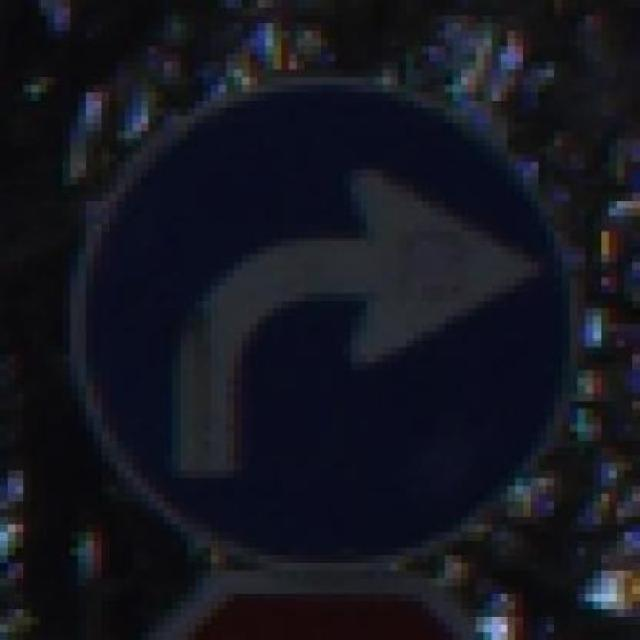Turn right ahead: (47, 46, 601, 594)
